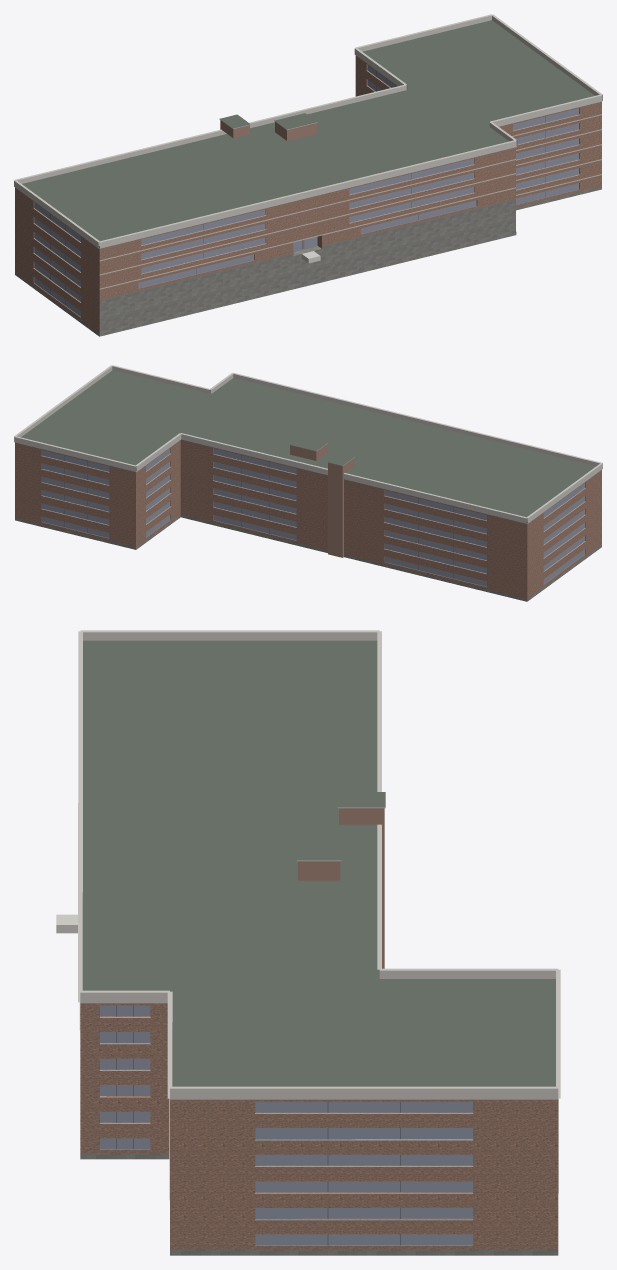
The picture shows the model from 3 angles, top to bottom: view 1: azimuth 30°, elevation 25°; view 2: azimuth 150°, elevation 25°; view 3: azimuth 270°, elevation 25°; orthographic projection. The views are drawn at different scales.
Visible parts, largest first — view 1: b944__roof, b944__wall, b944__base, b944__trim, b944__glass, b944__wall2; view 2: b944__wall, b944__roof, b944__glass, b944__trim, b944__base, b944__wall2; view 3: b944__roof, b944__wall, b944__glass, b944__trim, b944__base, b944__wall2.
Part boxes in pixels (x1=…): b944__roof: x1=22, y1=20, x2=594, y2=251; b944__wall: x1=15, y1=55, x2=601, y2=336; b944__base: x1=15, y1=186, x2=601, y2=336; b944__trim: x1=14, y1=14, x2=602, y2=302; b944__glass: x1=34, y1=65, x2=578, y2=316; b944__wall2: x1=220, y1=120, x2=316, y2=140; b944__wall: x1=15, y1=439, x2=601, y2=601; b944__roof: x1=21, y1=370, x2=595, y2=521; b944__glass: x1=42, y1=448, x2=584, y2=586; b944__trim: x1=14, y1=365, x2=602, y2=574; b944__base: x1=15, y1=514, x2=601, y2=601; b944__wall2: x1=290, y1=444, x2=354, y2=557; b944__roof: x1=82, y1=640, x2=557, y2=1255; b944__wall: x1=80, y1=1003, x2=558, y2=1249; b944__glass: x1=100, y1=1005, x2=472, y2=1245; b944__trim: x1=78, y1=630, x2=560, y2=1220; b944__base: x1=80, y1=1153, x2=558, y2=1255; b944__wall2: x1=298, y1=808, x2=384, y2=968.
Size of the model in its own units: 133 by 25.13 by 61.93.
Materials: 9 (2 with a texture image).
